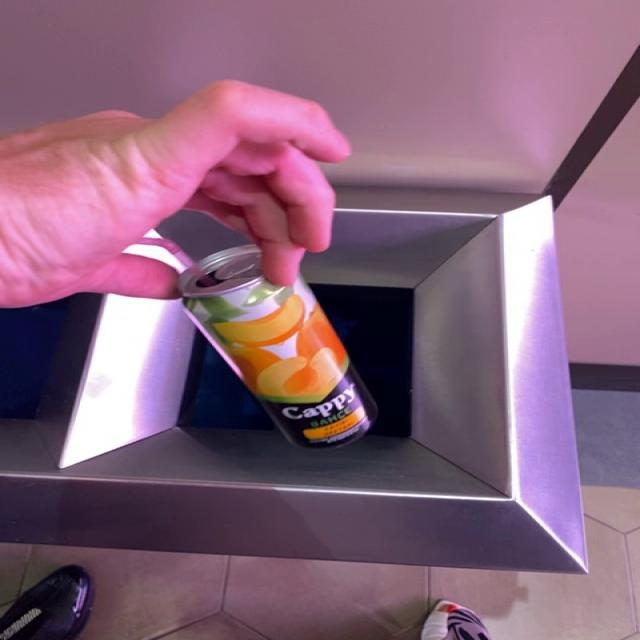metal: (180, 245, 376, 448)
